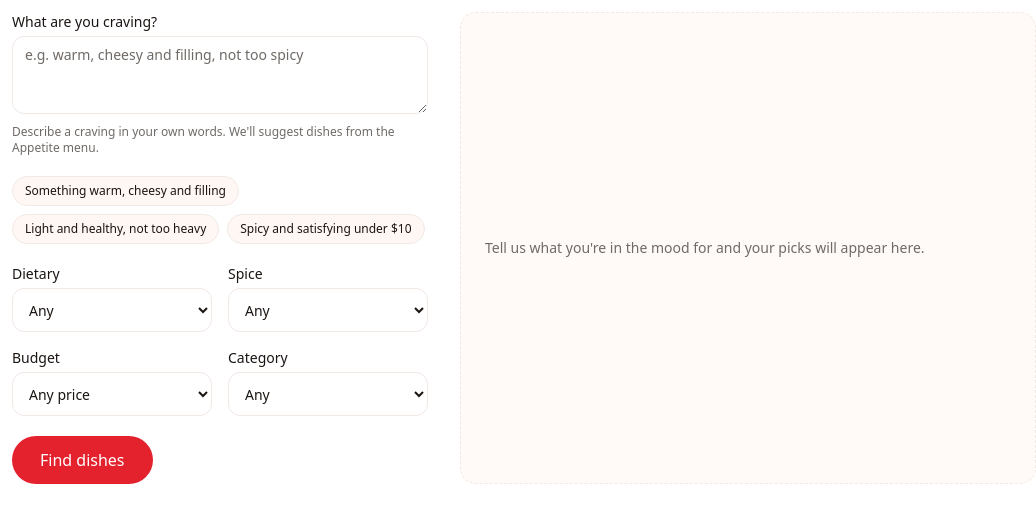
RecommendForm › shows a friendly message on network failure
In the text box labelled "What are you craving?": (220, 75) [12,36,428,114], type "pizza"
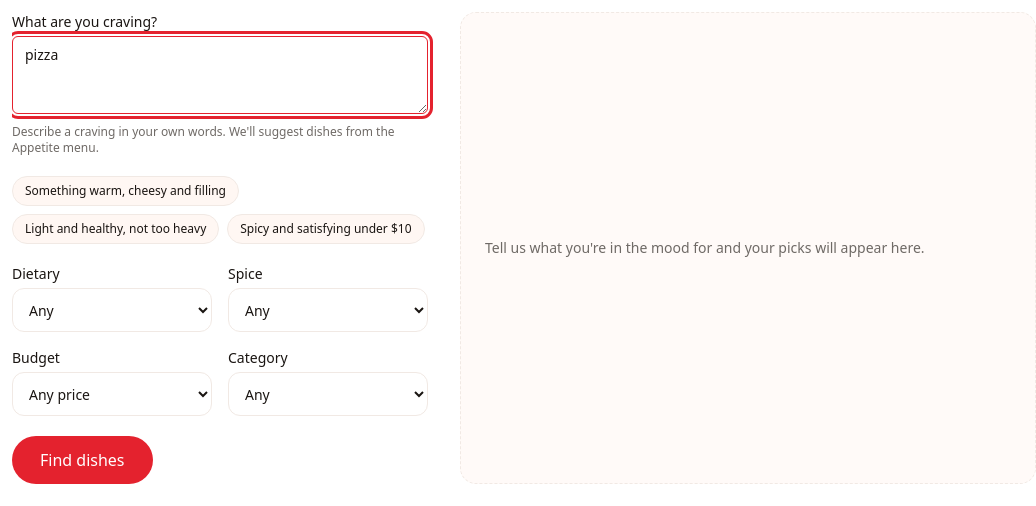
Click the button "Find dishes": click(82, 460) [12,436,152,484]
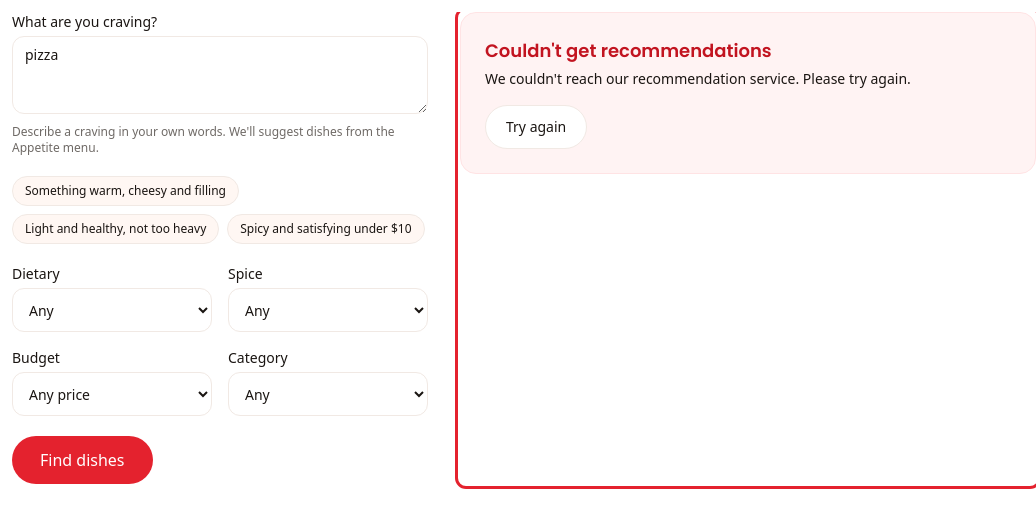
Result: the message shows "couldn't reach" at [485,69,911,88]
